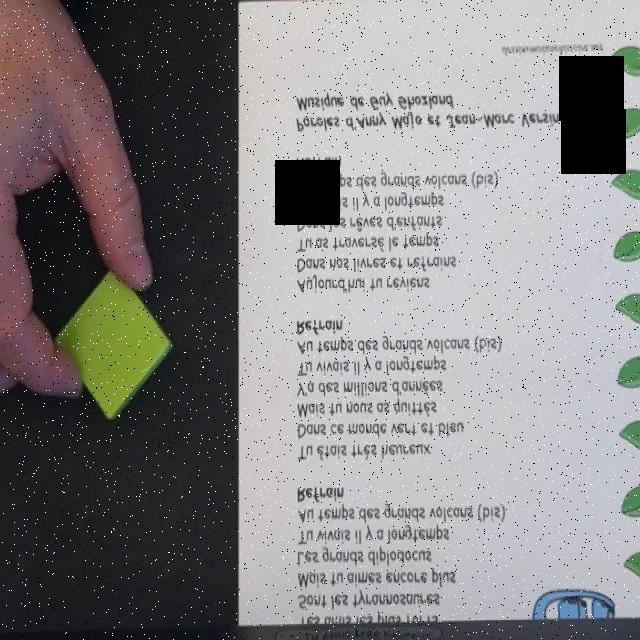square: (54, 270, 172, 420)
